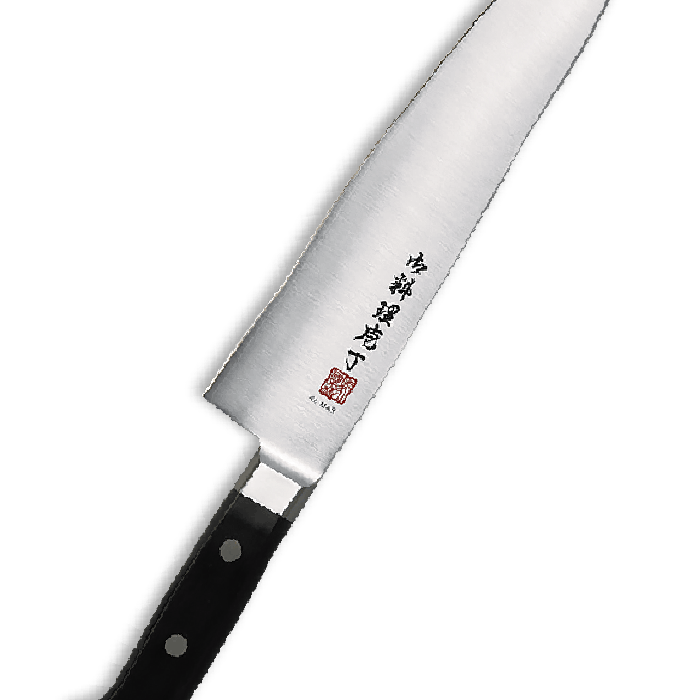knife: (102, 1, 614, 700)
